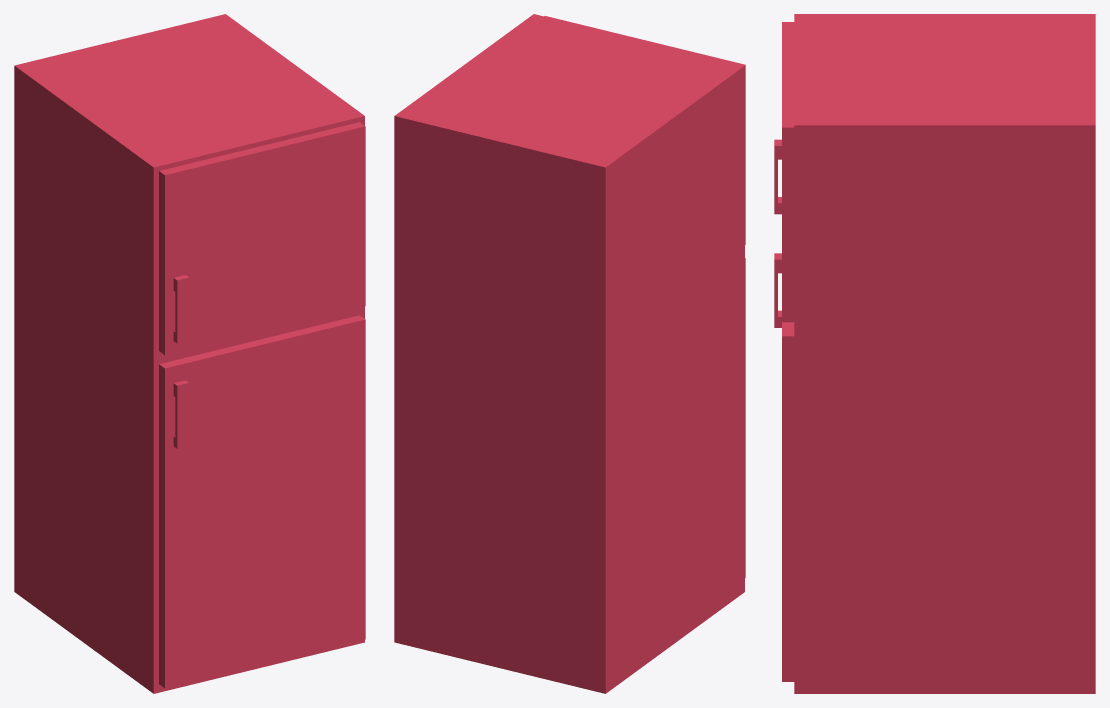
The model's file is geladeira.fbx.
3 views of the same model, side by side, from view 1: azimuth 30°, elevation 25°; view 2: azimuth 150°, elevation 25°; view 3: azimuth 270°, elevation 25° (orthographic). The views are drawn at different scales.
Parts seen in each view (by area): view 1: Geladeira; view 2: Geladeira; view 3: Geladeira.
Part boxes in pixels (box(x1,y1,x2,y2)): Geladeira: box(14, 14, 365, 693); Geladeira: box(394, 14, 745, 693); Geladeira: box(774, 14, 1095, 693).
Size of the model in its own units: 210 by 500 by 256.
